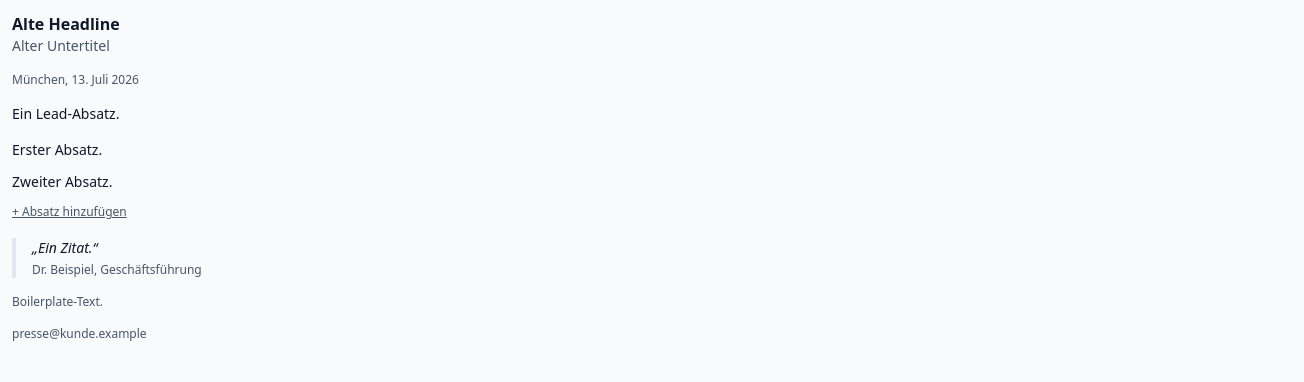
Scenario: PressemitteilungEditor -- Optimistic UI und Rollback › sendet bei 'Erneut versuchen' denselben Patch erneut, ohne dass die Nutzerin neu eintippen muss
Press Enter in the button with aria-label "Überschrift", box [12,12,1292,36]
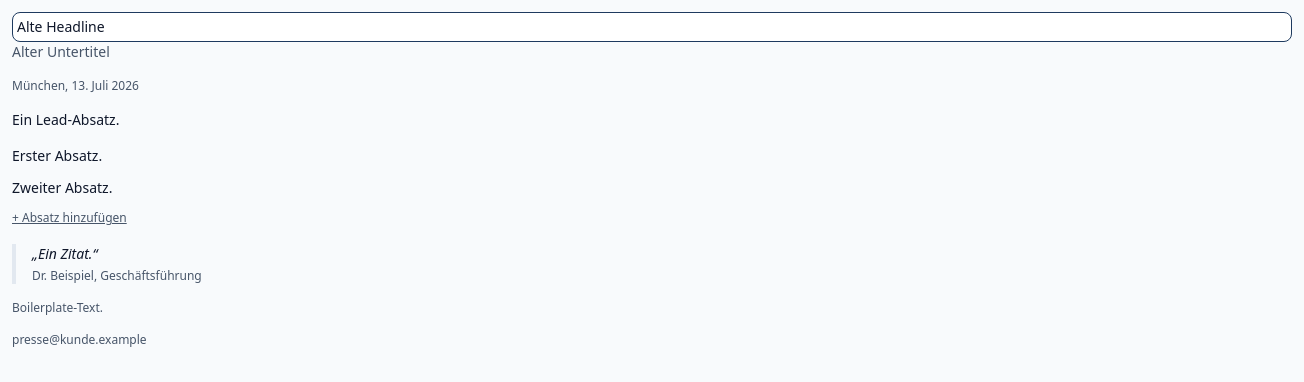
Replace the text in the field named "Überschrift" with "Neue Headline" at (652, 27), box [12,12,1292,42]
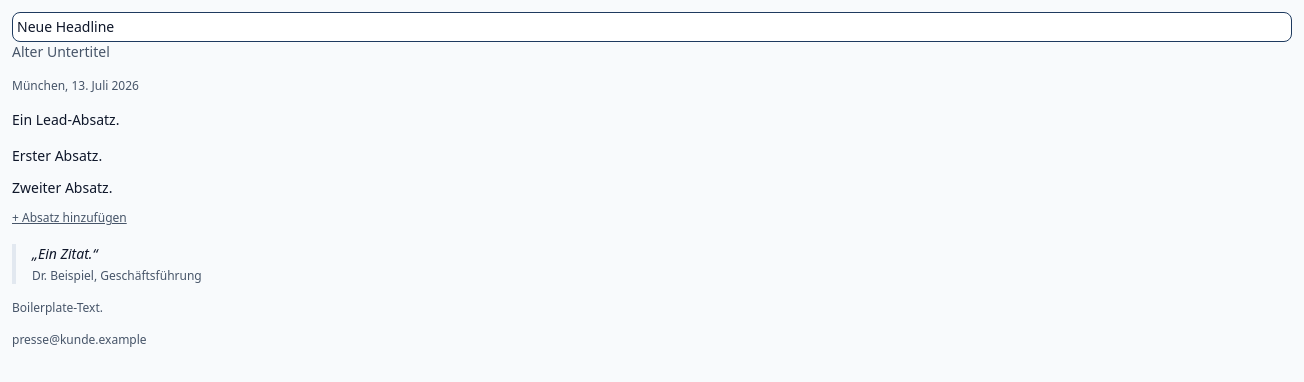
Press Enter in the field named "Überschrift", box [12,12,1292,42]
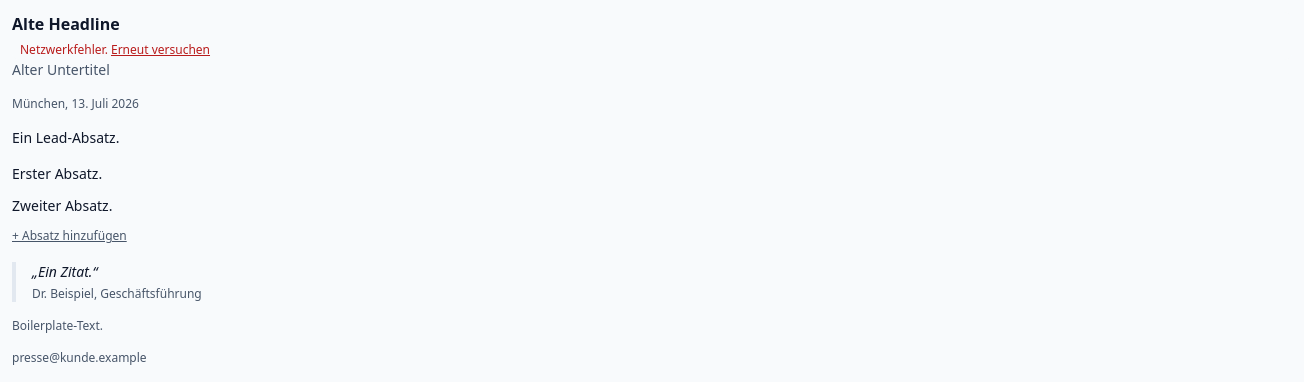
Expected: the button "Erneut versuchen" is shown
Expected: the heading "Alte Headline" is shown, [12,13,120,35]
Click the button "Erneut versuchen" at (160, 50), box [111,42,210,58]
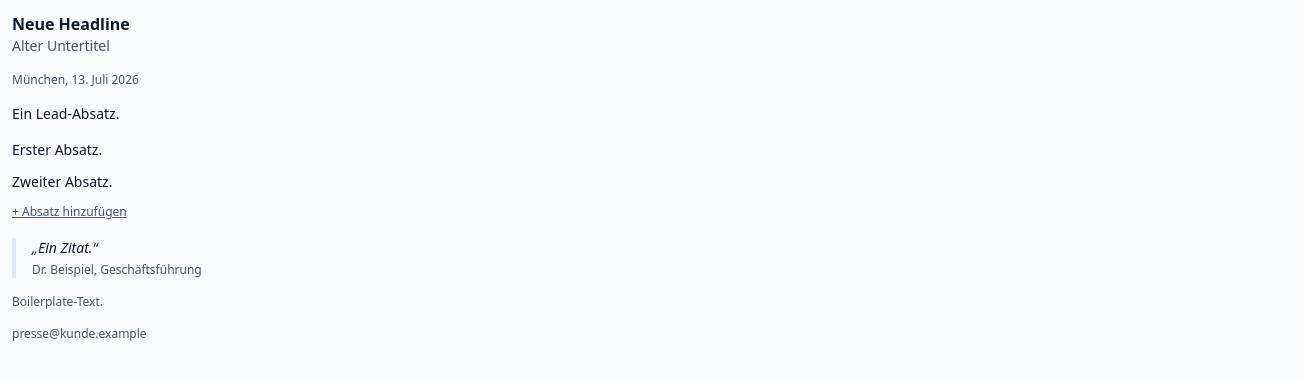
Expected: the heading "Neue Headline" is shown, [12,13,130,35]
Expected: the button "Erneut versuchen" is gone
